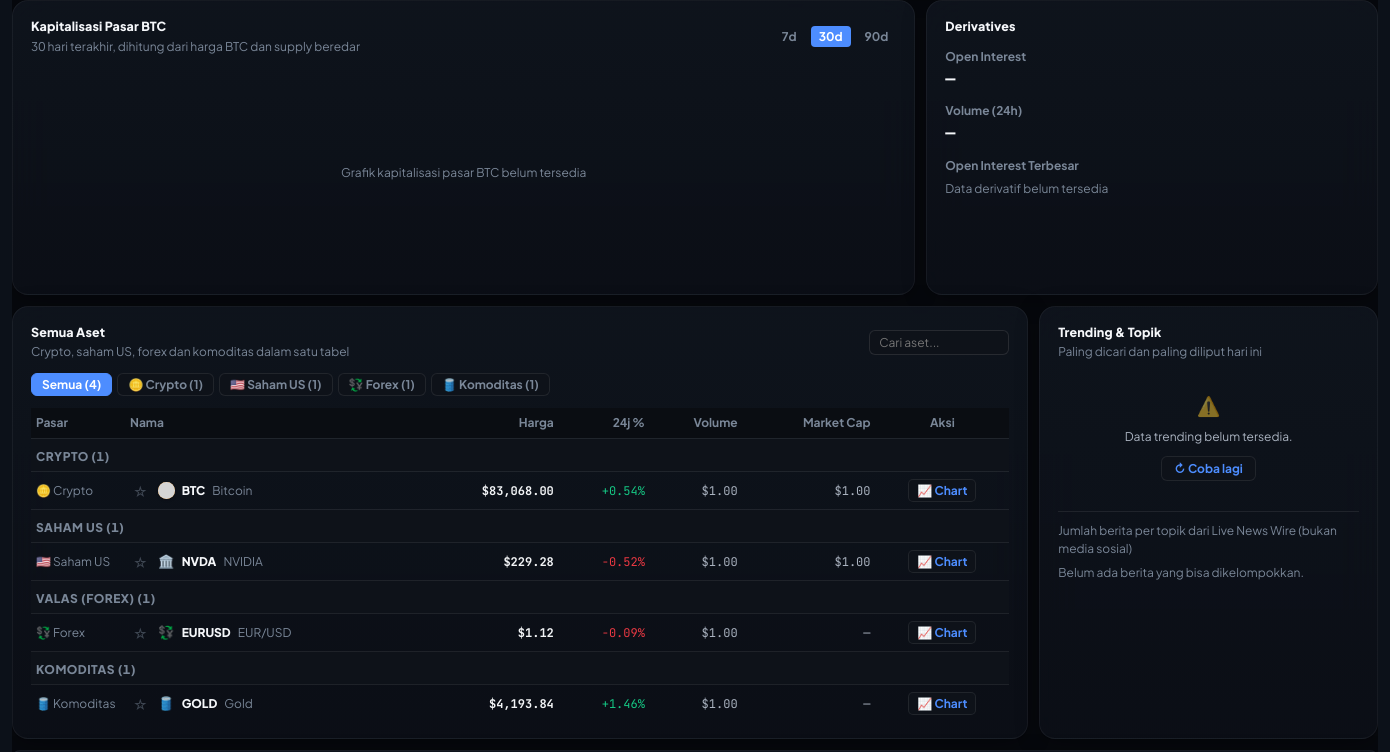
Test: D-2 majors row follows the market filter › switches to the selected market instead of always showing crypto
The width and height of the screenshot is (1390, 752).
(page scrolled)
What coordinates should you click on to do the following:
click the button "🇺🇸 Saham US (1)"
I would click on:
 (276, 385)
Its box is left=219, top=373, right=332, bottom=396.
(page scrolled)
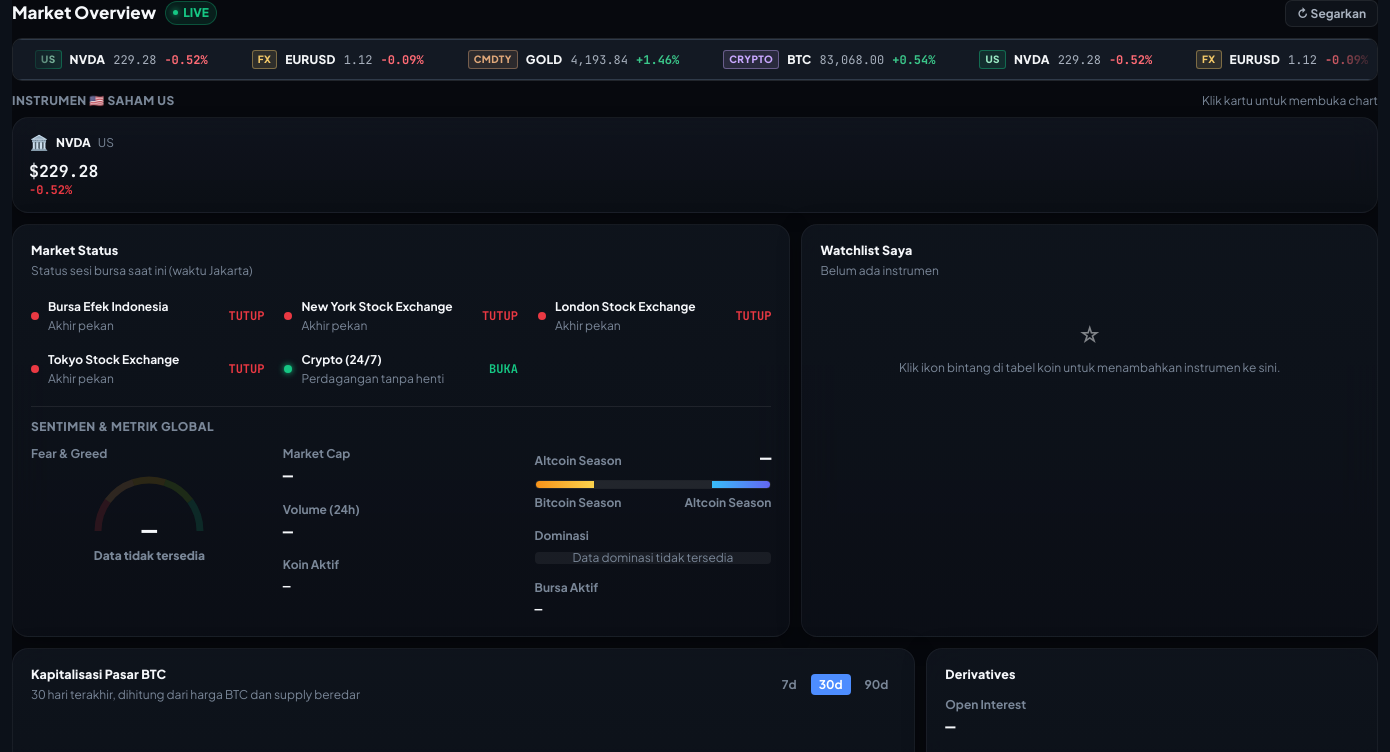
Now the text "Instrumen 🇺🇸 Saham US" is shown, box left=12, top=92, right=175, bottom=110
